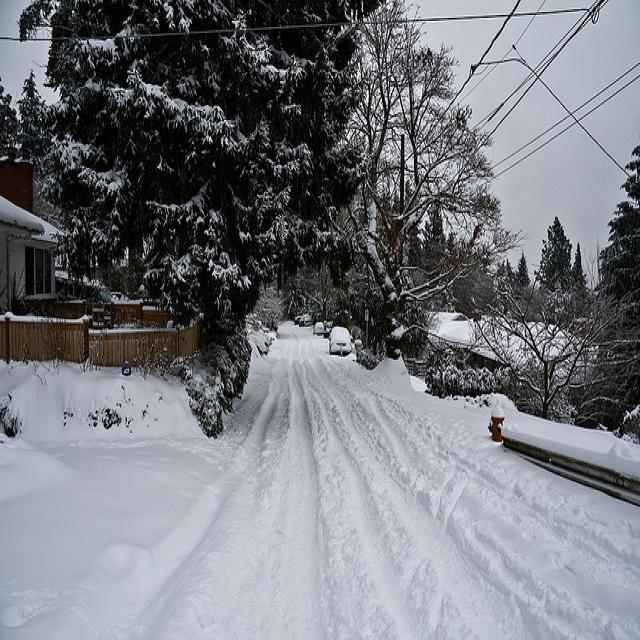fire_hydrant: (487, 402, 504, 441)
